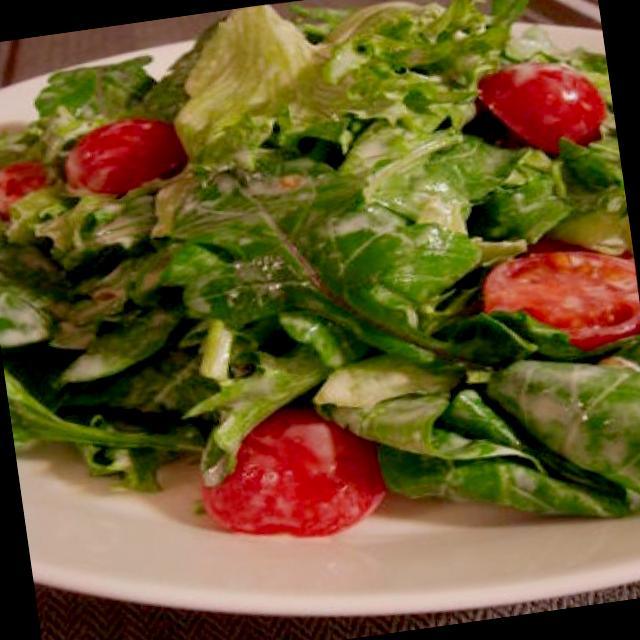Green Salad: (0, 0, 640, 542)
